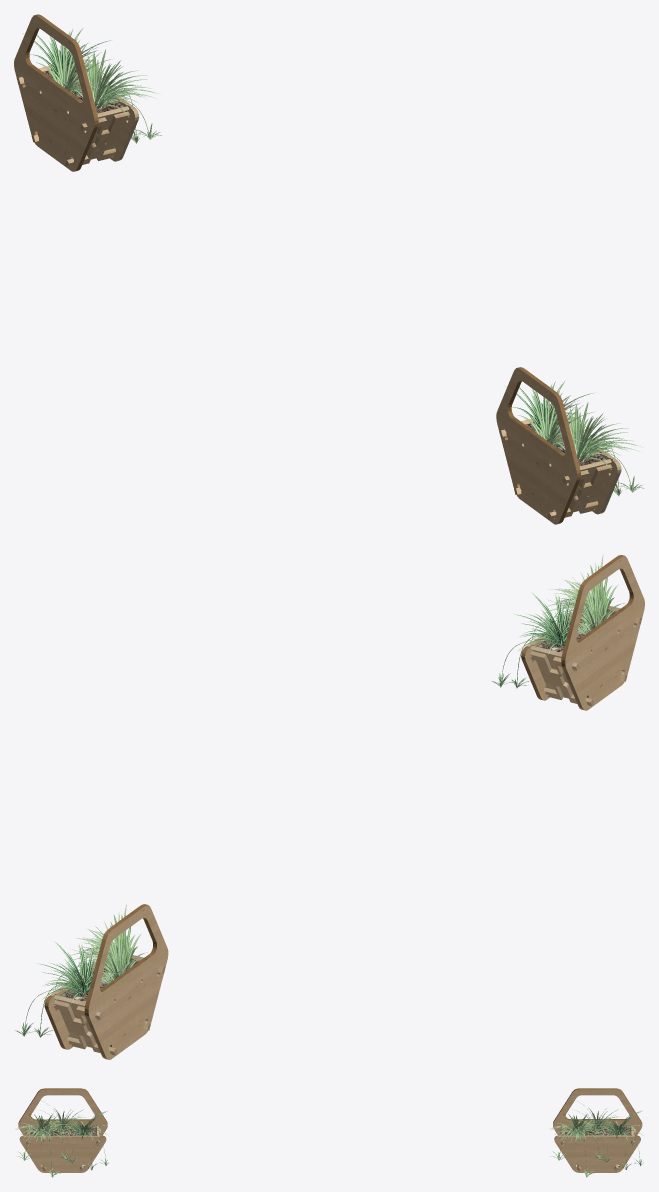
File: Wall_Plants.glb
3 views of the same model, one above another, from view 1: azimuth 30°, elevation 25°; view 2: azimuth 150°, elevation 25°; view 3: azimuth 270°, elevation 25° (orthographic). The views are drawn at different scales.
Parts seen in each view (by area): view 1: Wall_Plant1, Wall_Plant2; view 2: Wall_Plant1, Wall_Plant2; view 3: Wall_Plant1, Wall_Plant2.
Part boxes in pixels (x1,y1,x2,y2): Wall_Plant1: (496, 367, 643, 524); Wall_Plant2: (14, 14, 161, 171); Wall_Plant1: (491, 554, 644, 710); Wall_Plant2: (15, 904, 168, 1059); Wall_Plant1: (15, 1088, 109, 1177); Wall_Plant2: (550, 1088, 643, 1177).
Bounding box in the file's own units: 0.2486 × 0.3741 × 2.97.
Materials: 7 (7 with a texture image).
